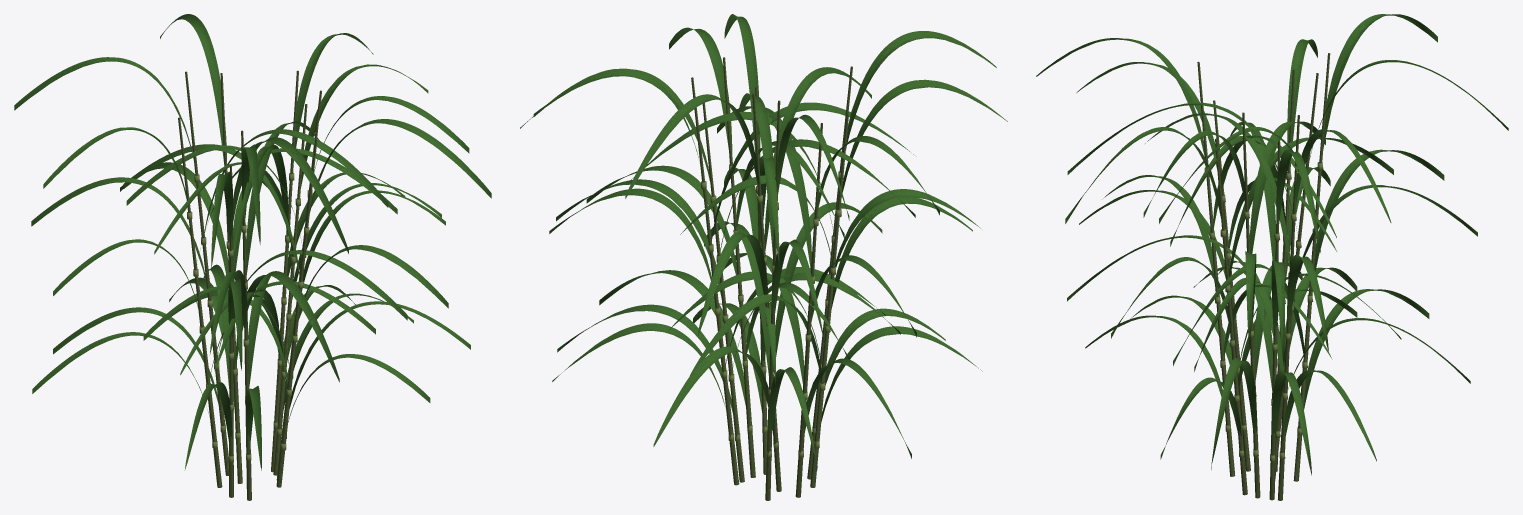
File: rice-2.glb
The picture shows the model from 3 angles, left to right: view 1: azimuth 30°, elevation 25°; view 2: azimuth 150°, elevation 25°; view 3: azimuth 270°, elevation 25°; orthographic projection. The views are drawn at different scales.
Visible parts, largest first — view 1: grass-leaf, stem, nodes; view 2: grass-leaf, stem, nodes; view 3: grass-leaf, stem, nodes.
Boxes of the visible parts, x1,y1,x2,y2 form: grass-leaf: (14, 14, 491, 470); stem: (178, 70, 321, 500); nodes: (187, 173, 312, 462); grass-leaf: (520, 14, 1007, 470); stem: (691, 57, 852, 500); nodes: (701, 164, 843, 457); grass-leaf: (1036, 14, 1508, 475); stem: (1197, 53, 1330, 500); nodes: (1204, 162, 1323, 461).
Size of the model in its own units: 0.5201 by 0.5328 by 0.5299.
3 materials, 2 textured.
